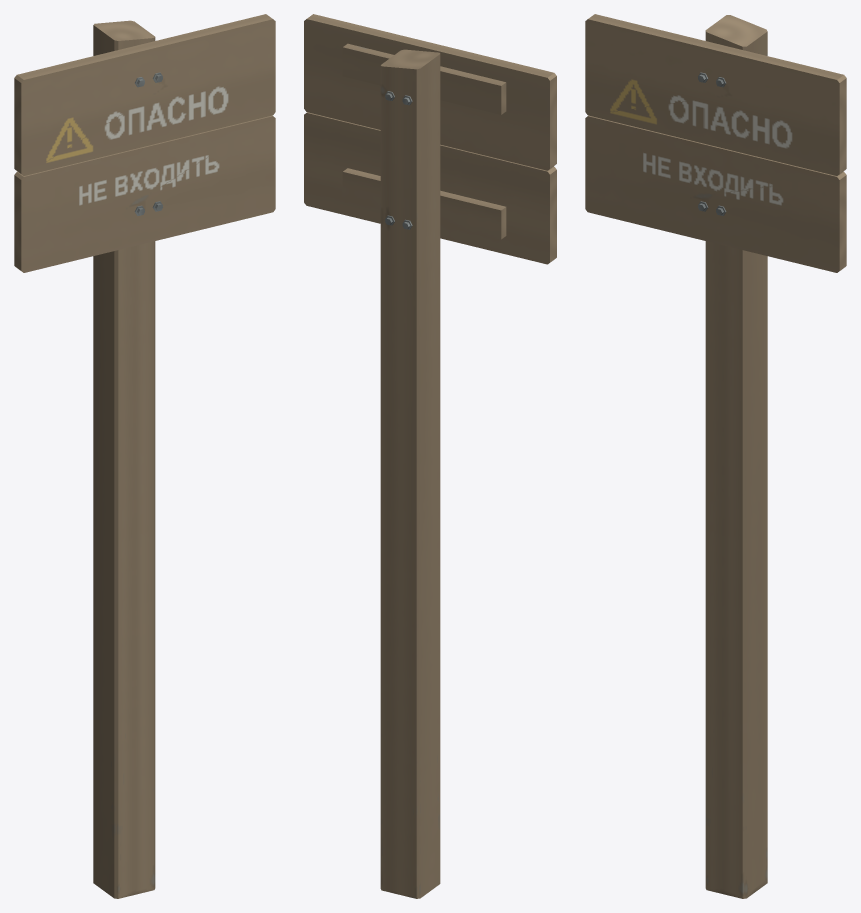
File: wood_post_sign_warning.glb
The picture shows the model from 3 angles, left to right: view 1: azimuth 30°, elevation 25°; view 2: azimuth 150°, elevation 25°; view 3: azimuth 330°, elevation 25°; orthographic projection. The views are drawn at different scales.
Parts seen in each view (by area): view 1: WoodPostSignWarning; view 2: WoodPostSignWarning; view 3: WoodPostSignWarning.
Part boxes in pixels (box(x1,y1,x2,y2)): WoodPostSignWarning: box(14, 14, 275, 898); WoodPostSignWarning: box(304, 14, 556, 898); WoodPostSignWarning: box(585, 14, 846, 898).
Size of what is drawn, in the model's own units: 0.62 by 2 by 0.172.
Materials: 1 (1 with a texture image).
